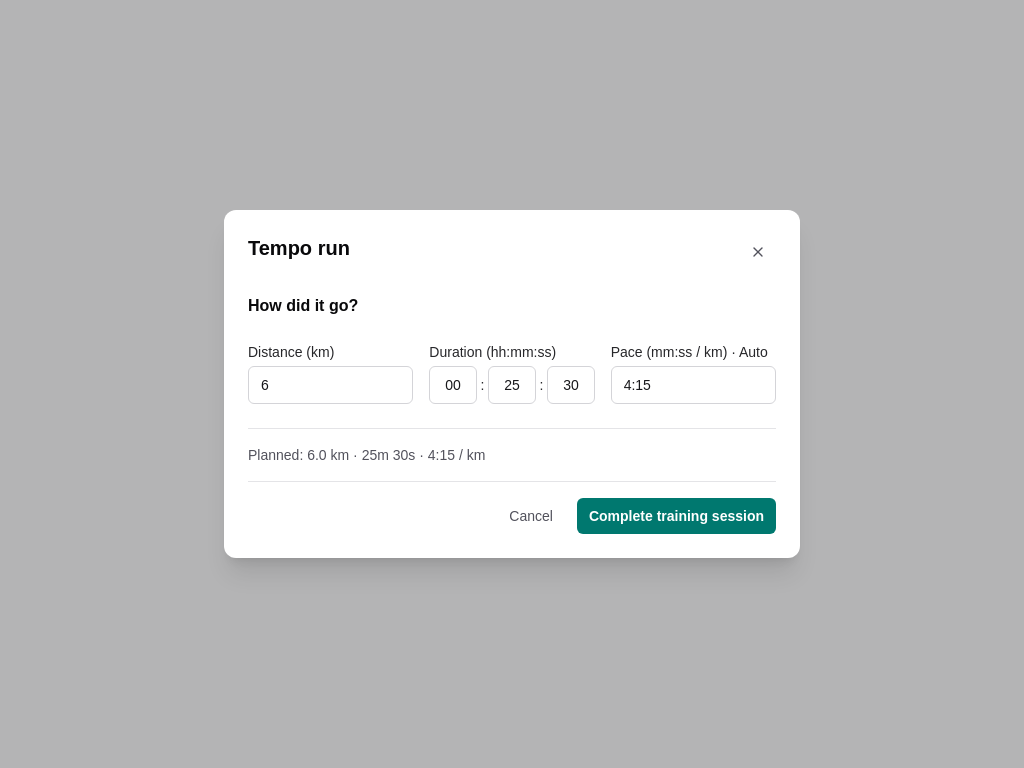
disables dismissal while completion is pending
What coordinates should you click on to do the following:
click the button "Complete training session"
I would click on:
 (676, 516)
Its box is [577,498,776,534].
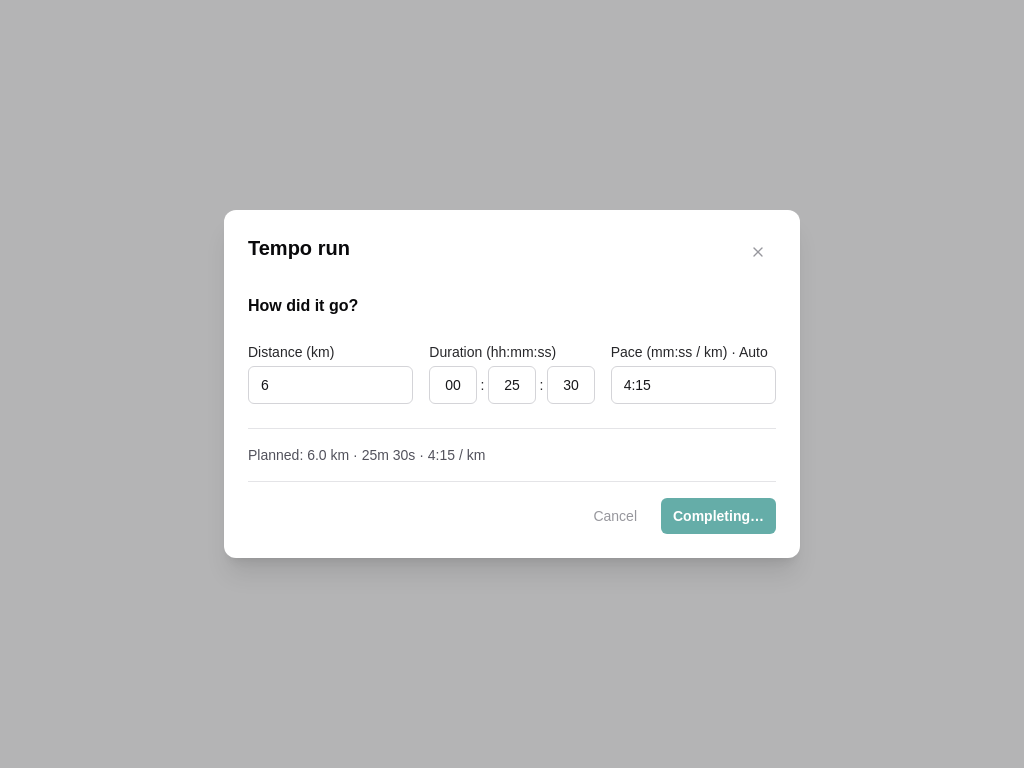
Check: the button "Completing…" is disabled, box [661,498,776,534]
Check: the button named "Dismiss complete training session" is disabled
